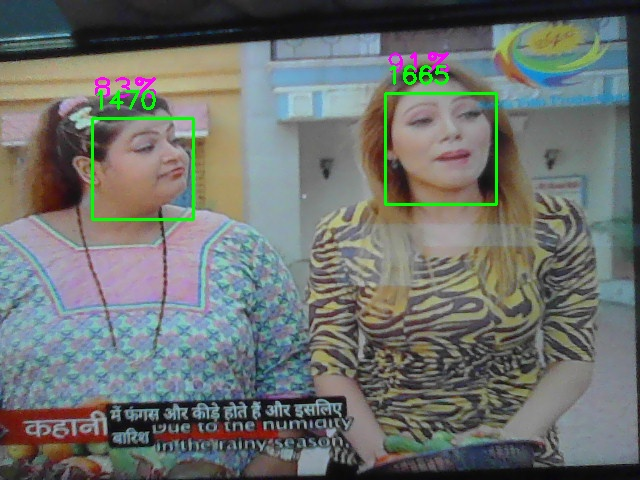fake: (385, 93, 497, 205), (92, 118, 194, 220)
